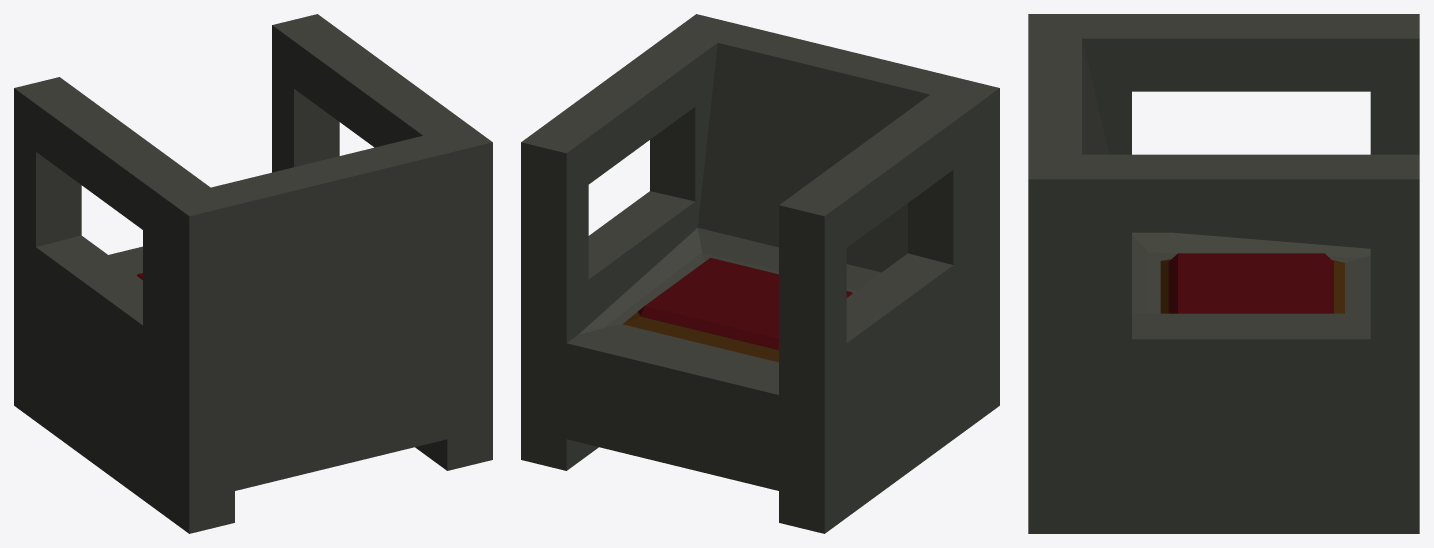
File: Chair.fbx
3 renders of one model, left to right at view 1: azimuth 30°, elevation 25°; view 2: azimuth 150°, elevation 25°; view 3: azimuth 270°, elevation 25°, orthographic. The views are drawn at different scales.
Parts seen in each view (by area): view 1: Cube; view 2: Cube; view 3: Cube.
Part boxes in pixels (x1,y1,x2,y2): Cube: (14,14,492,533); Cube: (521,14,999,533); Cube: (1028,14,1419,533).
Size of the model in its own units: 200 by 200 by 200.
